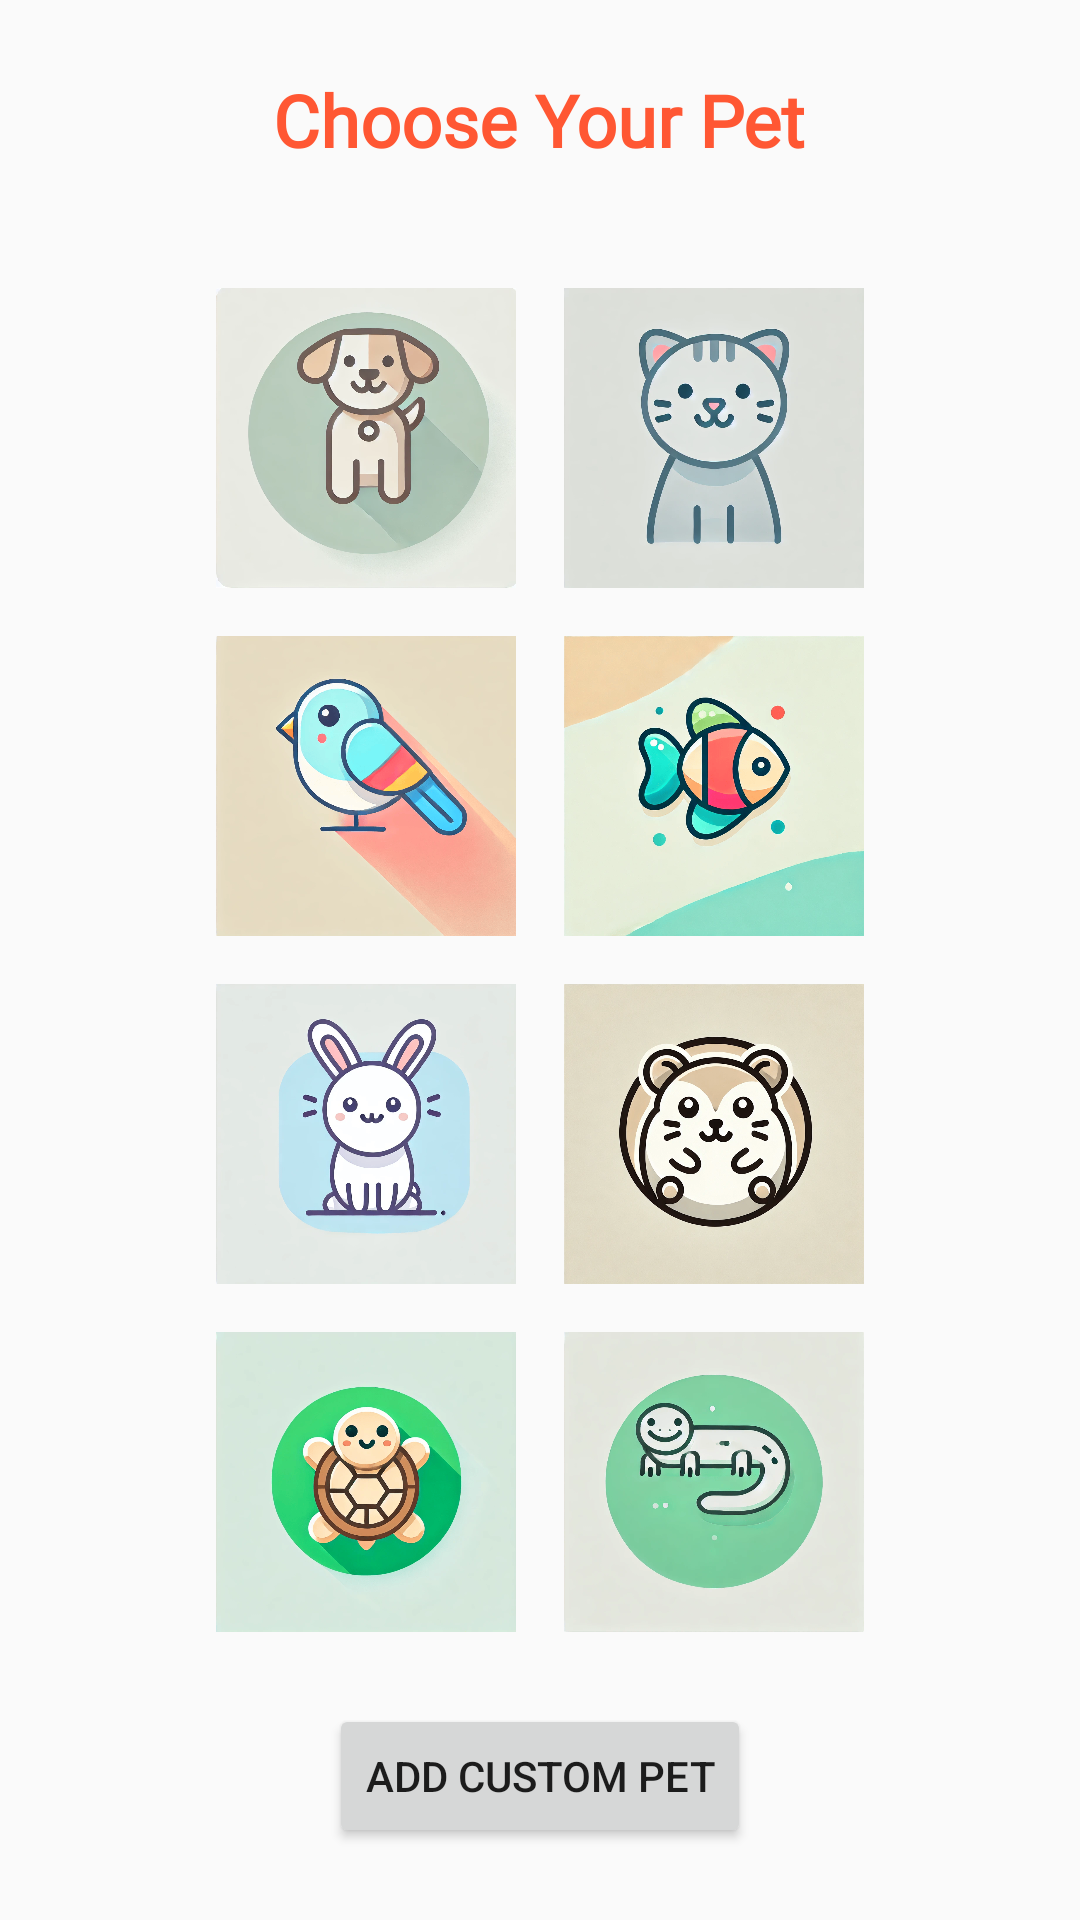

Screen size 1080w x 1920h. Icon name, then its center in pixels as (x=x, y=y):
Bird: (x=366, y=786)
Cat: (x=714, y=438)
Dog: (x=366, y=438)
Fish: (x=714, y=786)
Hamster: (x=714, y=1134)
Rabbit: (x=366, y=1134)
Reptile: (x=714, y=1482)
Turtle: (x=366, y=1482)
